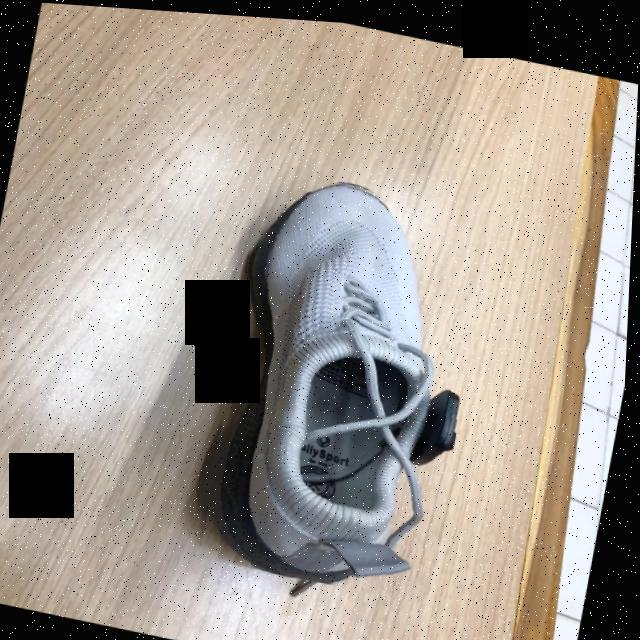shoe: (215, 180, 464, 579)
